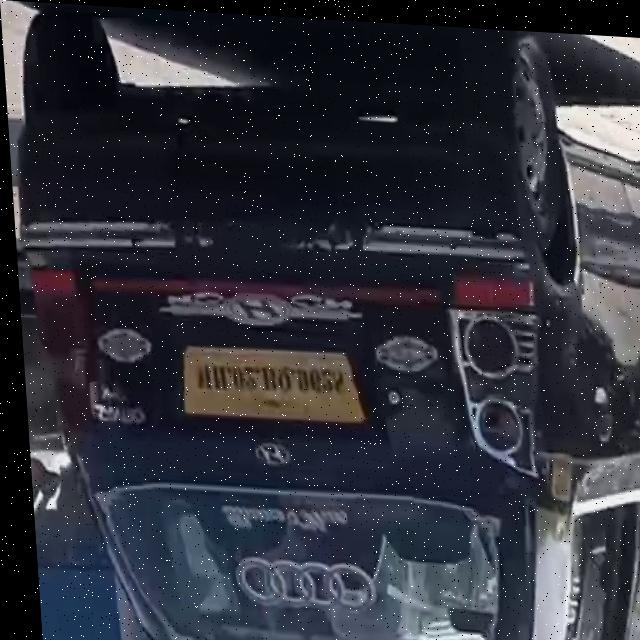plate: (169, 340, 363, 425)
